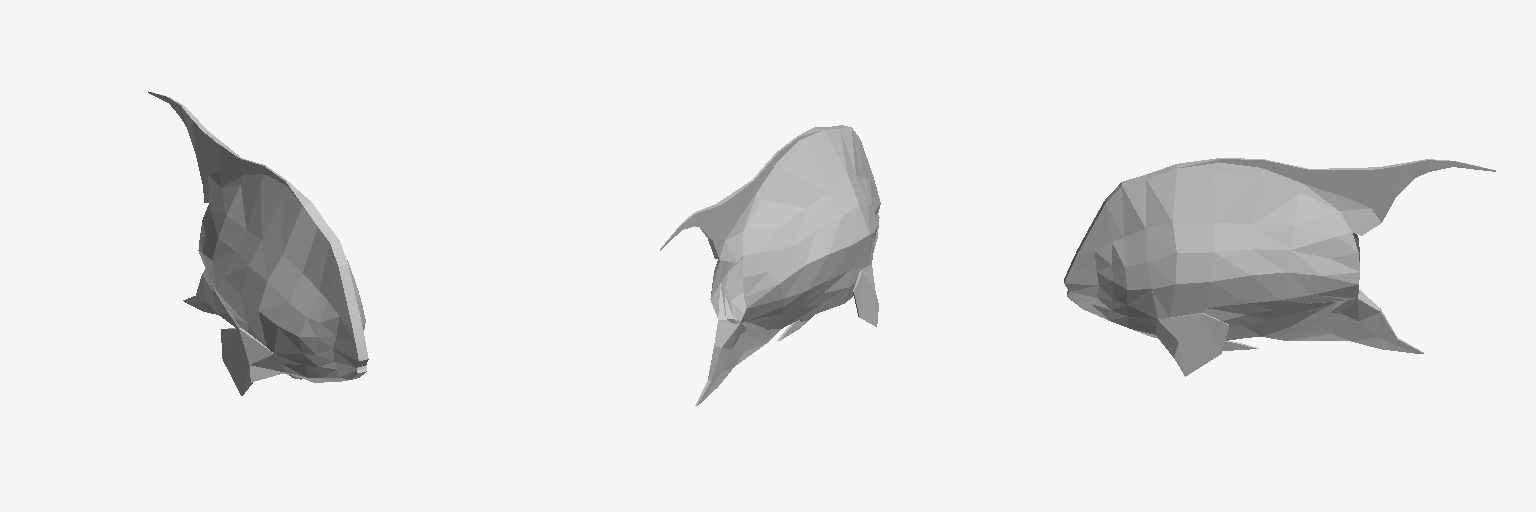
Rendered from cuerpoPez6.obj.
The picture shows the model from 3 angles: view 1: azimuth 30°, elevation 25°; view 2: azimuth 150°, elevation 25°; view 3: azimuth 270°, elevation 25°; orthographic projection.
Parts seen in each view (by area): view 1: cuerpoPez6:TropicalFish06; view 2: cuerpoPez6:TropicalFish06; view 3: cuerpoPez6:TropicalFish06.
Boxes of the visible parts, x1=… form: cuerpoPez6:TropicalFish06: x1=148, y1=91, x2=368, y2=395; cuerpoPez6:TropicalFish06: x1=660, y1=125, x2=880, y2=405; cuerpoPez6:TropicalFish06: x1=1064, y1=158, x2=1495, y2=376.
Bounding box in the file's own units: 0.4517 × 0.672 × 1.35.